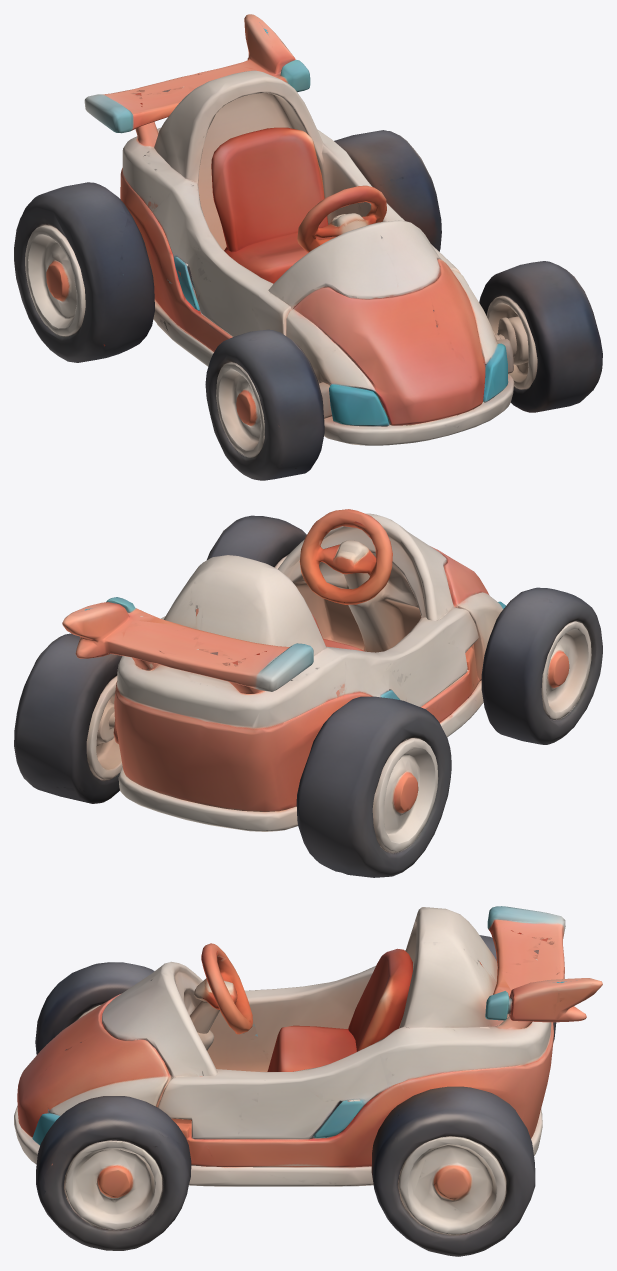
Rendered from comet-cartoon-mobile-decimated.glb.
The picture shows the model from 3 angles, top to bottom: view 1: azimuth 30°, elevation 25°; view 2: azimuth 150°, elevation 25°; view 3: azimuth 270°, elevation 25°; orthographic projection. The views are drawn at different scales.
Parts seen in each view (by area): view 1: model; view 2: model; view 3: model.
Boxes of the visible parts, box(x1,y1,x2,y2) form: model: box(14, 14, 602, 480); model: box(14, 509, 602, 877); model: box(14, 906, 602, 1256).
Size of the model in its own units: 1.35 by 0.9127 by 1.9.
Materials: 1 (1 with a texture image).
